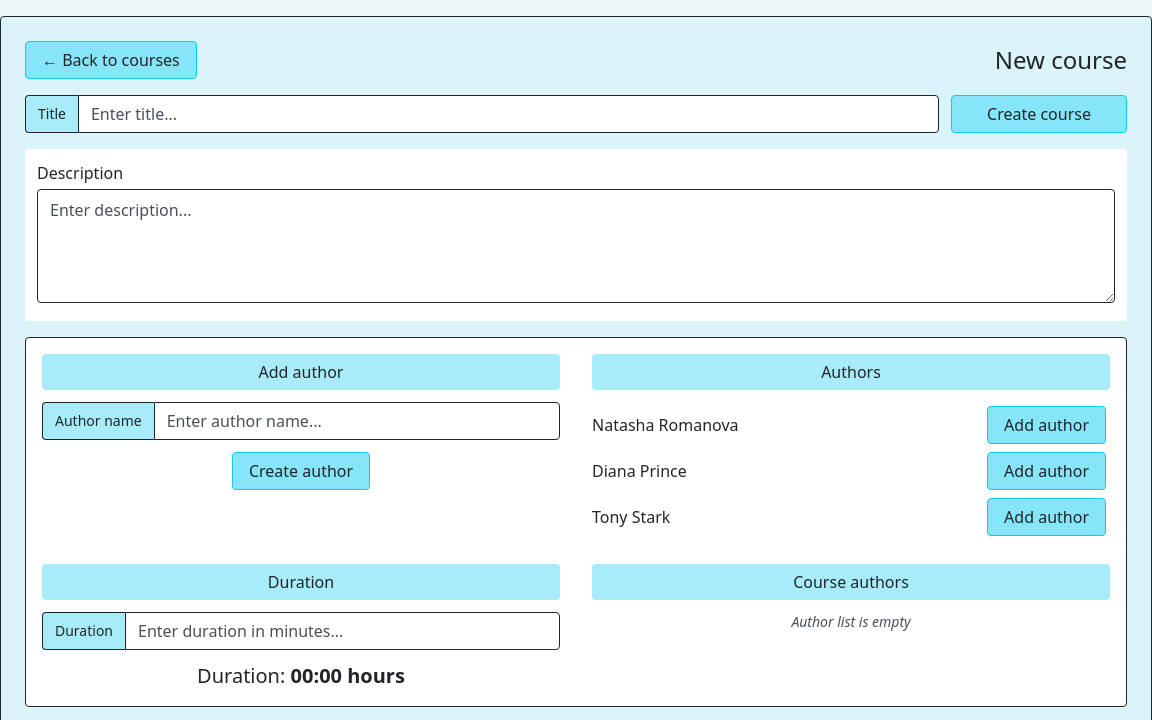
it: CourseForm › refuses an author name that is too short
The width and height of the screenshot is (1152, 720).
Type "H" into the field labelled "Author name" at (357, 421), box [154,402,560,440]
Then press Enter
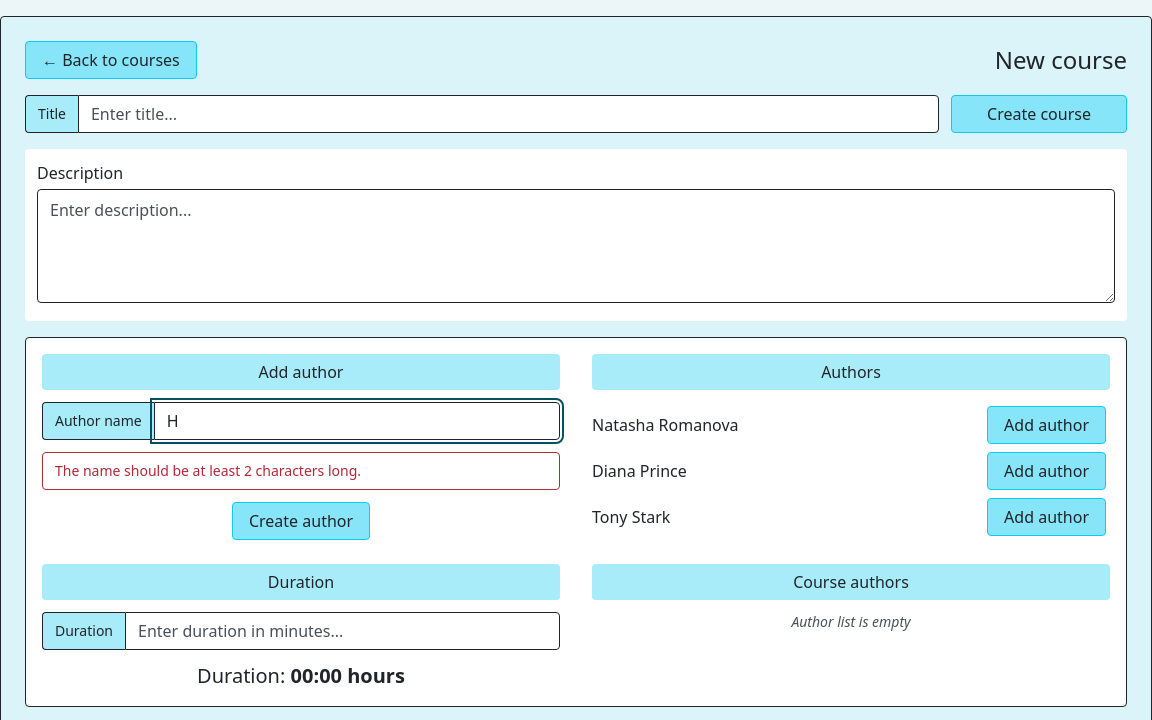
Expected: the message shows "at least 2 characters", [55,461,361,480]
